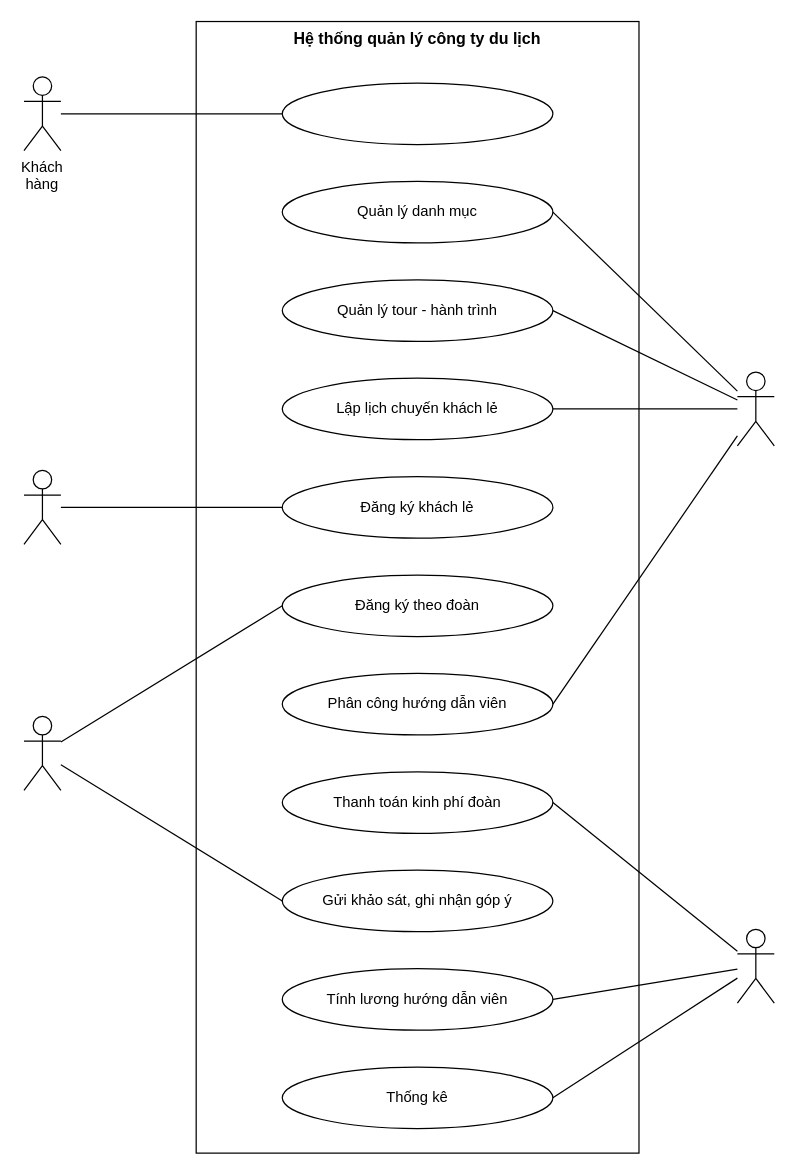
The diagram is 796 pixels wide and 1175 high, and some of its shapes have lost their labels. The centre of each missing label's shape, as x and y in pixels:
"Kế toán" belongs at (x=755, y=965).
"NV bán vé" belongs at (x=42, y=506).
"NV kinh doanh" belongs at (x=42, y=752).
"NV điều hành" belongs at (x=755, y=408).
"Xem thông tin tour" belongs at (x=417, y=113).
